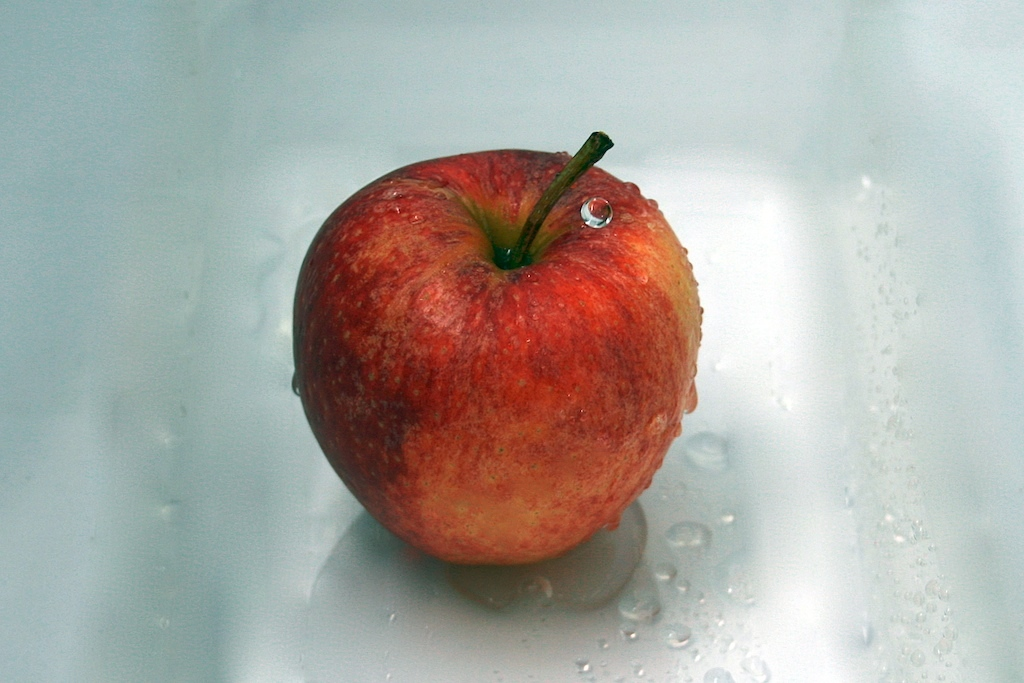Apple: (291, 129, 696, 587)
